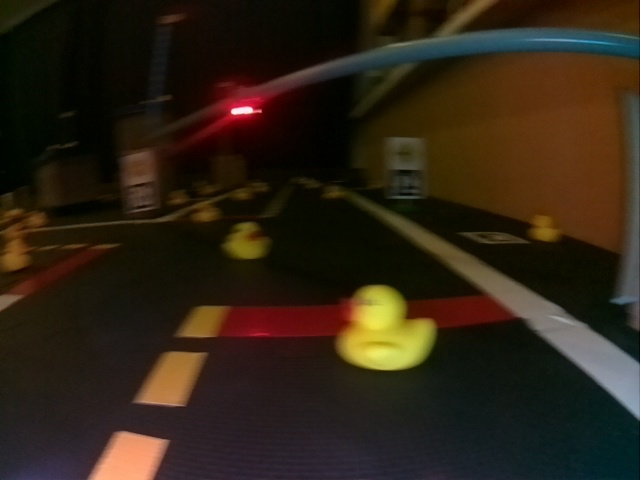Duckie: (336, 286, 435, 370), (223, 225, 271, 259), (3, 239, 25, 269)
Intersection sign: (389, 140, 421, 167)
QR code: (389, 167, 423, 199), (465, 232, 526, 245), (125, 184, 154, 210)
Traffic light: (226, 89, 263, 121)
